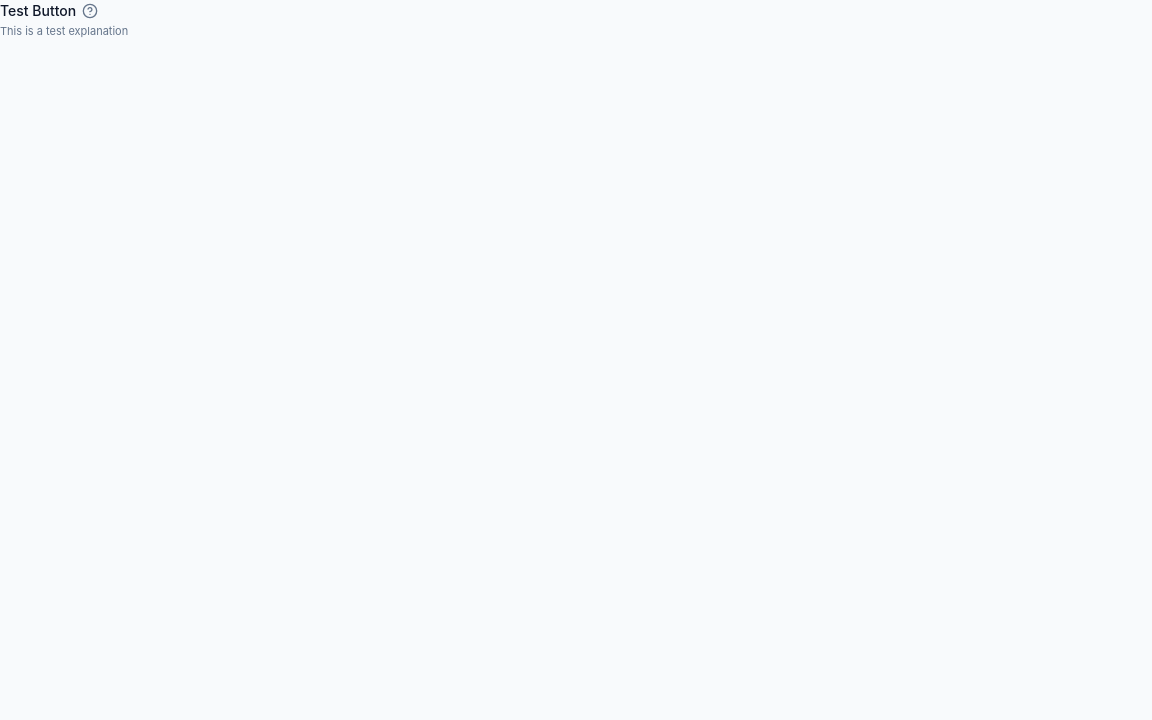
Test: ThreeLayerHelp › should show tooltip on click
Click the button named "test button action": x=90, y=11 [82,3,98,19]
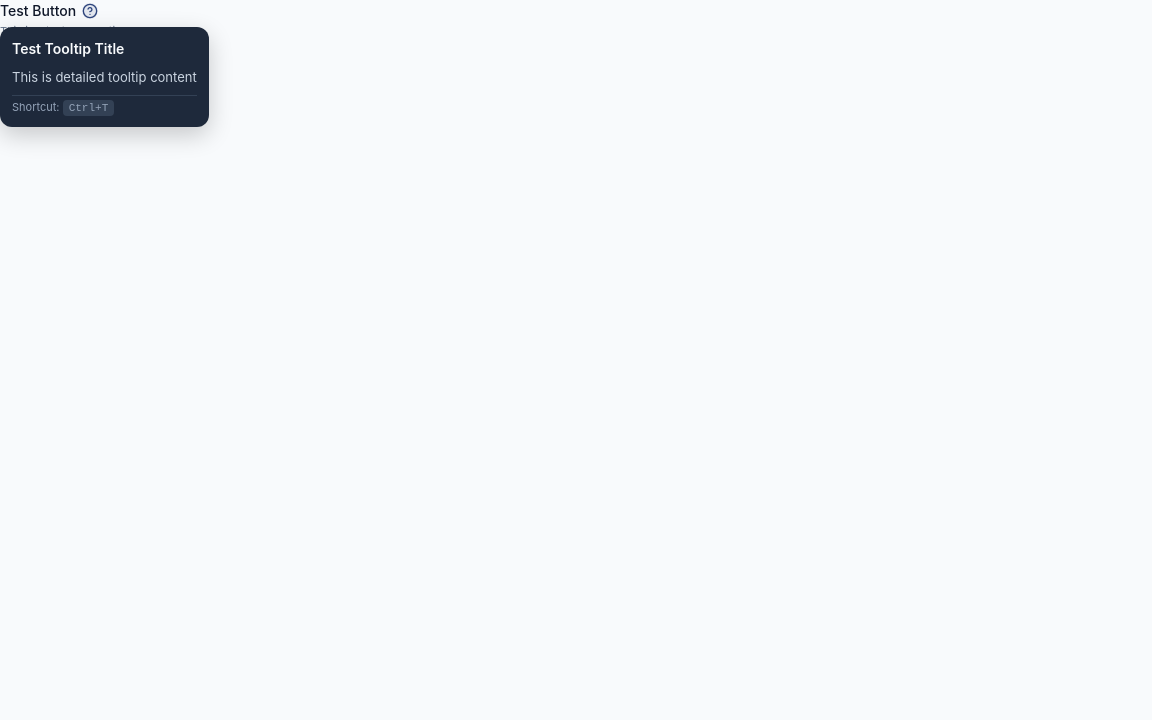
Check: the text "Test Tooltip Title" is shown, box [12,40,124,57]
Check: the text "This is detailed tooltip content" is shown, box [12,67,197,87]
